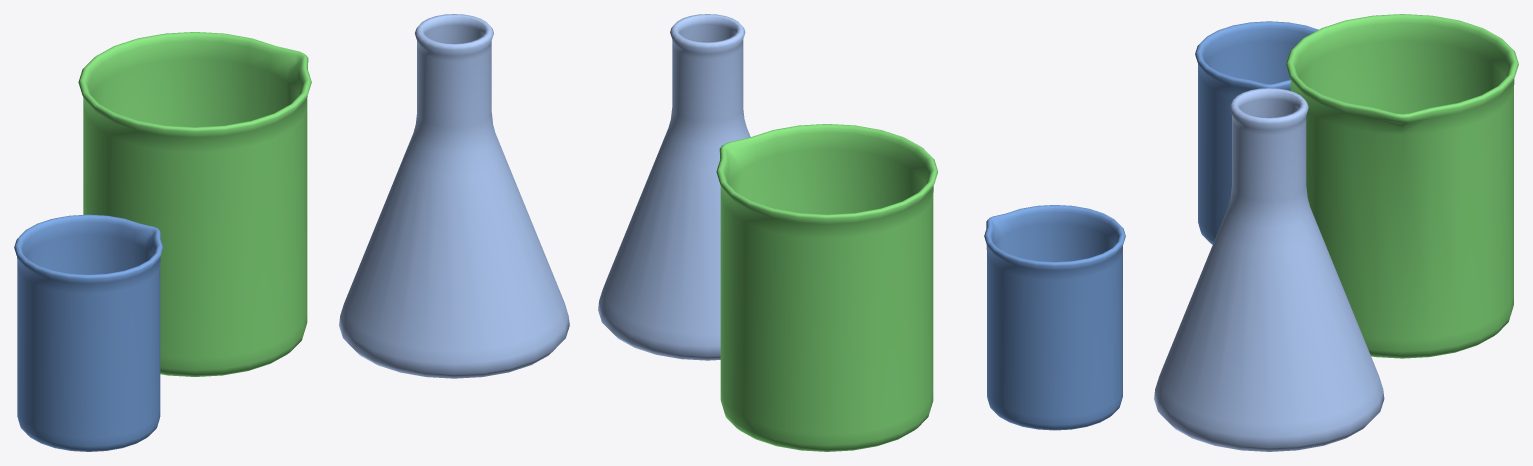
Rendered from 플라스크.glb.
3 views of the same model, side by side, from view 1: azimuth 30°, elevation 25°; view 2: azimuth 150°, elevation 25°; view 3: azimuth 270°, elevation 25° (orthographic). The views are drawn at different scales.
Parts seen in each view (by area): view 1: object_1, object_2; view 2: object_1, object_2; view 3: object_1, object_2.
Part boxes in pixels (x1,y1,x2,y2): object_1: [14, 32, 311, 451]; object_2: [339, 14, 569, 378]; object_1: [716, 124, 1125, 451]; object_2: [598, 14, 750, 360]; object_1: [1195, 14, 1518, 358]; object_2: [1154, 88, 1384, 451].
Size of the model in its own units: 5.7 by 3.15 by 3.41.
